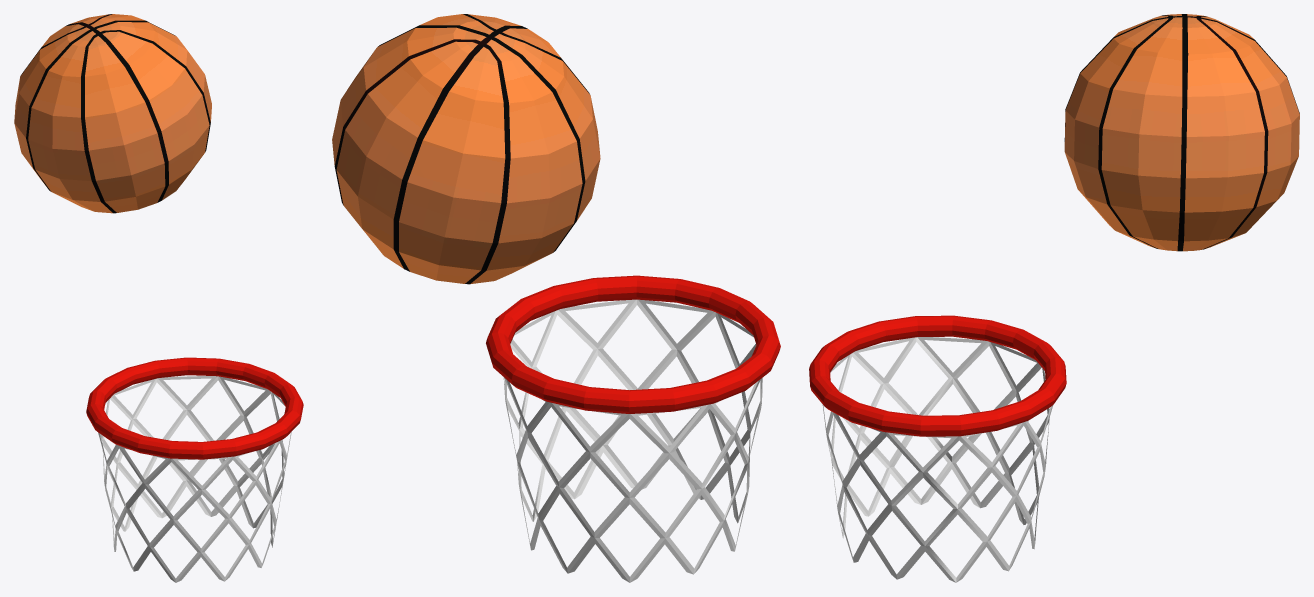
The model's file is basket.fbx.
3 views of the same model, side by side, from view 1: azimuth 30°, elevation 25°; view 2: azimuth 150°, elevation 25°; view 3: azimuth 270°, elevation 25° (orthographic). The views are drawn at different scales.
Parts seen in each view (by area): view 1: Sphere, net, ring; view 2: Sphere, net, ring; view 3: Sphere, net, ring.
Part boxes in pixels (<box>): Sphere: <box>14,14,211,213</box>; net: <box>98,376,291,582</box>; ring: <box>86,357,303,459</box>; Sphere: <box>332,14,600,284</box>; net: <box>503,299,762,582</box>; ring: <box>486,275,780,413</box>; Sphere: <box>1064,14,1299,251</box>; net: <box>822,337,1053,582</box>; ring: <box>809,315,1066,436</box>.
Bounding box in the file's own units: 129 × 273 × 228.
3 materials, 1 textured.
